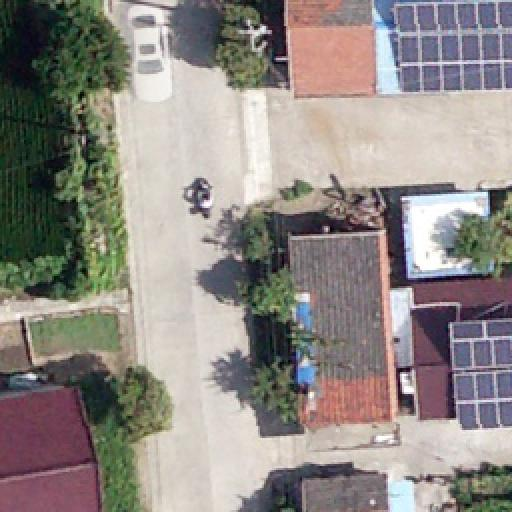solar-panel: (395, 0, 512, 111), (445, 310, 512, 458)
